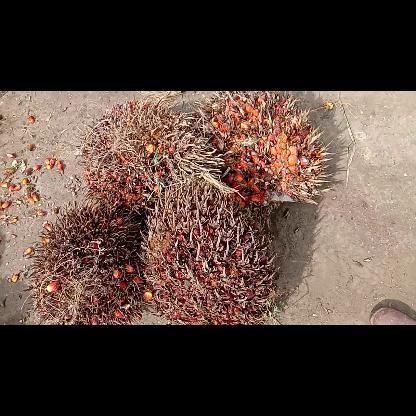Terlalu masak: (140, 178, 274, 324), (24, 198, 146, 324), (80, 99, 224, 205), (204, 91, 336, 205)
